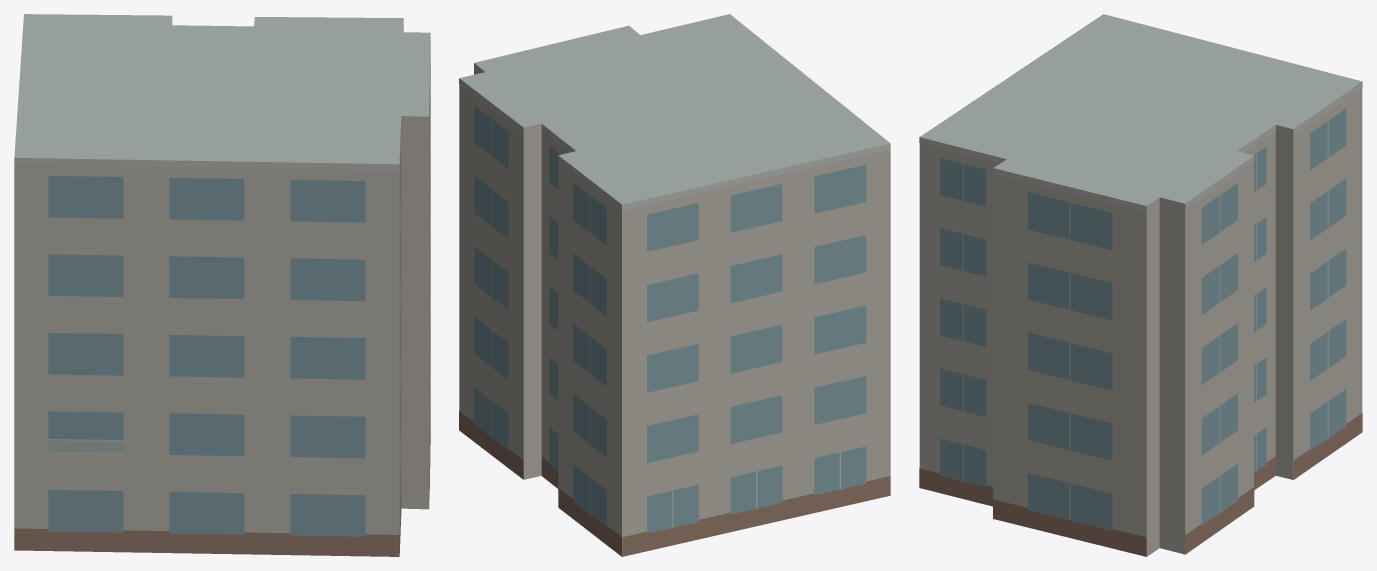
File: survey-upis-33008200.glb
3 renders of one model, left to right at view 1: azimuth 30°, elevation 25°; view 2: azimuth 150°, elevation 25°; view 3: azimuth 270°, elevation 25°, orthographic. The views are drawn at different scales.
Visible parts, largest first — view 1: survey-upis-33008200.tmp; view 2: survey-upis-33008200.tmp; view 3: survey-upis-33008200.tmp.
Part boxes in pixels (x1=…): survey-upis-33008200.tmp: x1=14, y1=14, x2=430, y2=556; survey-upis-33008200.tmp: x1=459, y1=14, x2=890, y2=556; survey-upis-33008200.tmp: x1=919, y1=14, x2=1362, y2=556.
Size of the model in its own units: 16.21 by 13.8 by 15.8.
